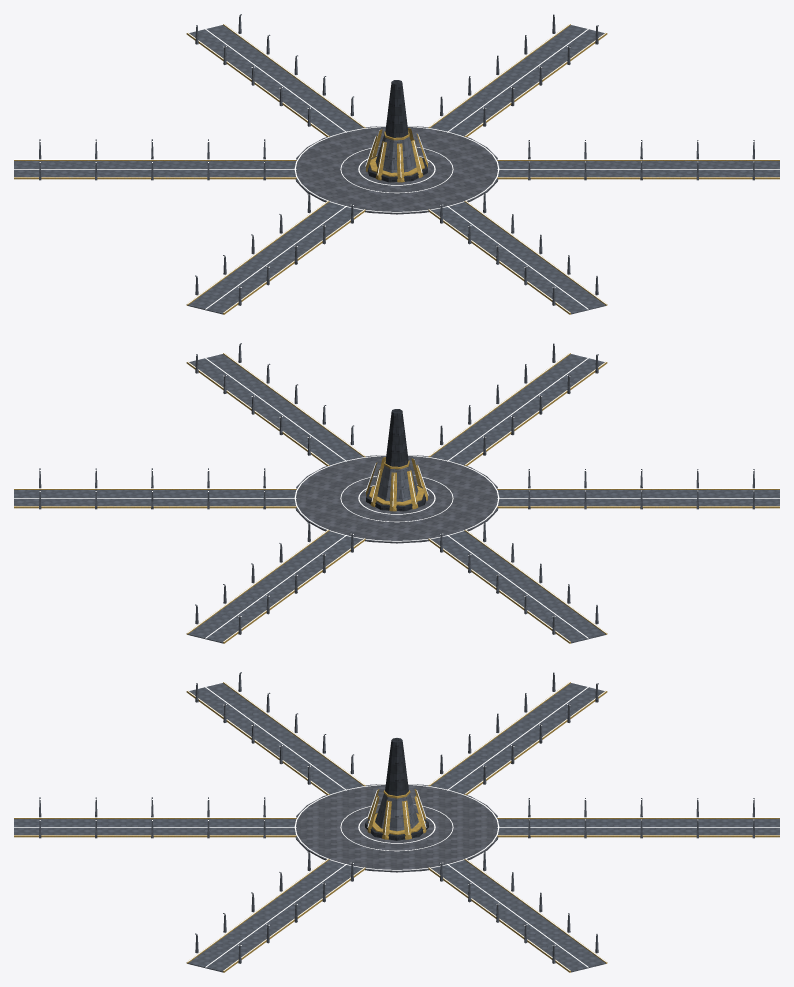
Rendered from env_hub.glb.
The picture shows the model from 3 angles, top to bottom: view 1: azimuth 30°, elevation 25°; view 2: azimuth 150°, elevation 25°; view 3: azimuth 270°, elevation 25°; orthographic projection.
Visible parts, largest first — view 1: env_hub; view 2: env_hub; view 3: env_hub.
Boxes of the visible parts, x1,y1,x2,y2 form: env_hub: (14,14,779,314); env_hub: (14,343,779,643); env_hub: (14,672,779,972).
Bounding box in the file's own units: 171 × 24.3 × 191.
6 materials, 6 textured.
